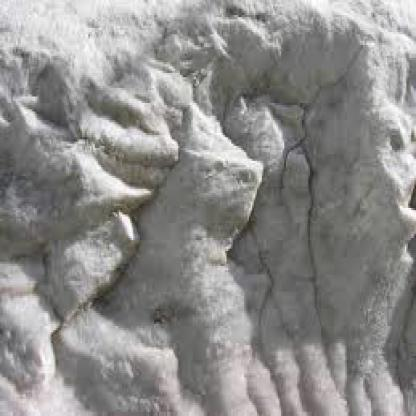Metamorphic_Marble: (302, 26, 414, 414), (135, 94, 270, 414), (0, 86, 167, 255), (57, 294, 206, 414)
